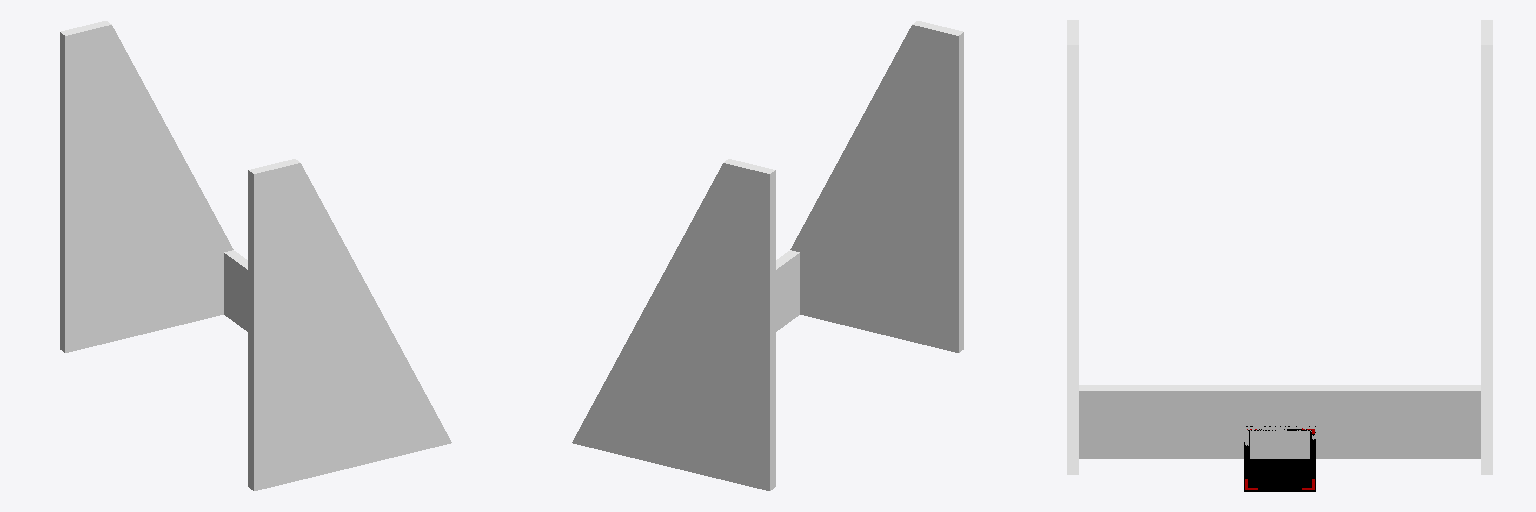
robot.urdf — exchanger:
<?xml version="1.0"?>
<robot name="exchanger">
  <!-- 世界坐标系虚拟链接 -->
  <!-- <link name="world"/> -->
  <!-- 在rviz中看的 -->

  <!-- 兑换站 -->
  <link name="exchanger">
    <visual>
      <geometry>
        <mesh filename="package://exchanger_des/meshes/exchanger.STL"/>
      </geometry>
      <material name="white">
        <color rgba="1 1 1 1"/>
      </material>
    </visual>
    <collision>
      <geometry>
        <mesh filename="package://exchanger_des/meshes/exchanger.STL"/>
      </geometry>
    </collision>

  </link>

  <!-- 矿曹 -->
  <link name="entry">
    <visual>
      <geometry>
        <mesh filename="package://exchanger_des/meshes/entry.STL"/>
      </geometry>
      <material name="black">
        <color rgba="0 0 0 1"/>
      </material>
    </visual>
    <collision>
      <geometry>
        <mesh filename="package://exchanger_des/meshes/entry.STL"/>
      </geometry>
    </collision>
    <inertial>
      <mass value="0.5"/>
      <inertia ixx="0.001" ixy="0" ixz="0" iyy="0.001" iyz="0" izz="0.001"/>
    </inertial>
  </link>

  <!-- <link name="entry_detected">
    <visual>
      <geometry>
        <mesh filename="package://exchanger_des/meshes/entry.STL"/>
      </geometry>
      <material name="black">
        <color rgba="0 0 0 1"/>
      </material>
    </visual>
    <collision>
      <geometry>
        <mesh filename="package://exchanger_des/meshes/entry.STL"/>
      </geometry>
    </collision>
    <inertial>
      <mass value="0.5"/>
      <inertia ixx="0.001" ixy="0" ixz="0" iyy="0.001" iyz="0" izz="0.001"/>
    </inertial>
  </link> -->



  <link name="left_lightbar">
    <visual>
      <geometry>
        <mesh filename="package://exchanger_des/meshes/side_light.STL"/>
      </geometry>
      <material name="red">
        <color rgba="1 0 0 1"/>
      </material>
    </visual>

    <inertial>
      <mass value="0.5"/>
      <inertia ixx="0.001" ixy="0" ixz="0" iyy="0.001" iyz="0" izz="0.001"/>
    </inertial>
  </link>

  <joint name="J_leftLIGHT" type="fixed">
    <origin xyz="-0.1455 0.144 0" rpy="1.57 0 0" />
    <parent link="entry" />
    <child link="left_lightbar" />
  </joint>

  <link name="right_lightbar">
    <visual>
      <geometry>
        <mesh filename="package://exchanger_des/meshes/side_light.STL"/>
      </geometry>
      <material name="red">
        <color rgba="1 0 0 1"/>
      </material>
    </visual>

    <inertial>
      <mass value="0.5"/>
      <inertia ixx="0.001" ixy="0" ixz="0" iyy="0.001" iyz="0" izz="0.001"/>
    </inertial>
  </link>

  <joint name="J_rightLIGHT" type="fixed">
    <origin xyz="-0.1455 -0.139 0" rpy="1.57 0 0" />
    <parent link="entry" />
    <child link="right_lightbar" />
  </joint>

  <!-- 正面 -->
  <link name="front_lightbar">
    <visual>
      <geometry>
        <mesh filename="package://exchanger_des/meshes/front_light.STL"/>
      </geometry>
      <material name="red">
        <color rgba="1 0 0 1"/>
      </material>
    </visual>

    <inertial>
      <mass value="0.5"/>
      <inertia ixx="0.001" ixy="0" ixz="0" iyy="0.001" iyz="0" izz="0.001"/>
    </inertial>
  </link>

  <joint name="J_frontLIGHT" type="fixed">
    <origin xyz="0 0 0" rpy="0 0 0" />
    <parent link="entry" />
    <child link="front_lightbar" />
  </joint>

  <joint name="exchangeTOentry" type="floating">
    <origin xyz="0 0 0" rpy="0 0 0" />
    <parent link="exchanger" />
    <child link="entry" />
  </joint>

  <!-- <joint name="exchangeTOentrydetected" type="floating">
    <origin xyz="0 0 0" rpy="0 0 0" />
    <parent link="exchanger" />
    <child link="entry_detected" />
  </joint> -->
  <!-- entry_vision -->
</robot>

--- Render facts (derived) ---
Views: 3 orthographic renders of the robot side by side, from view 1: azimuth 30°, elevation 25°; view 2: azimuth 150°, elevation 25°; view 3: azimuth 270°, elevation 25°.
Model exchanger with 5 links and 4 joints (3 fixed, 1 floating), rooted at exchanger, posed every joint at zero.
Visible links, largest first — view 1: exchanger; view 2: exchanger; view 3: exchanger, entry.
Link boxes in pixels (left/top/right/bottom): exchanger: left=60, top=21, right=451, bottom=490; exchanger: left=572, top=21, right=963, bottom=490; exchanger: left=1067, top=20, right=1492, bottom=474; entry: left=1244, top=426, right=1315, bottom=491.
Size in the robot's own frame: 1 by 1.7 by 1.67 metres.
Meshes: 4 distinct files referenced, 5 mesh visuals loaded (4 binary STL).
